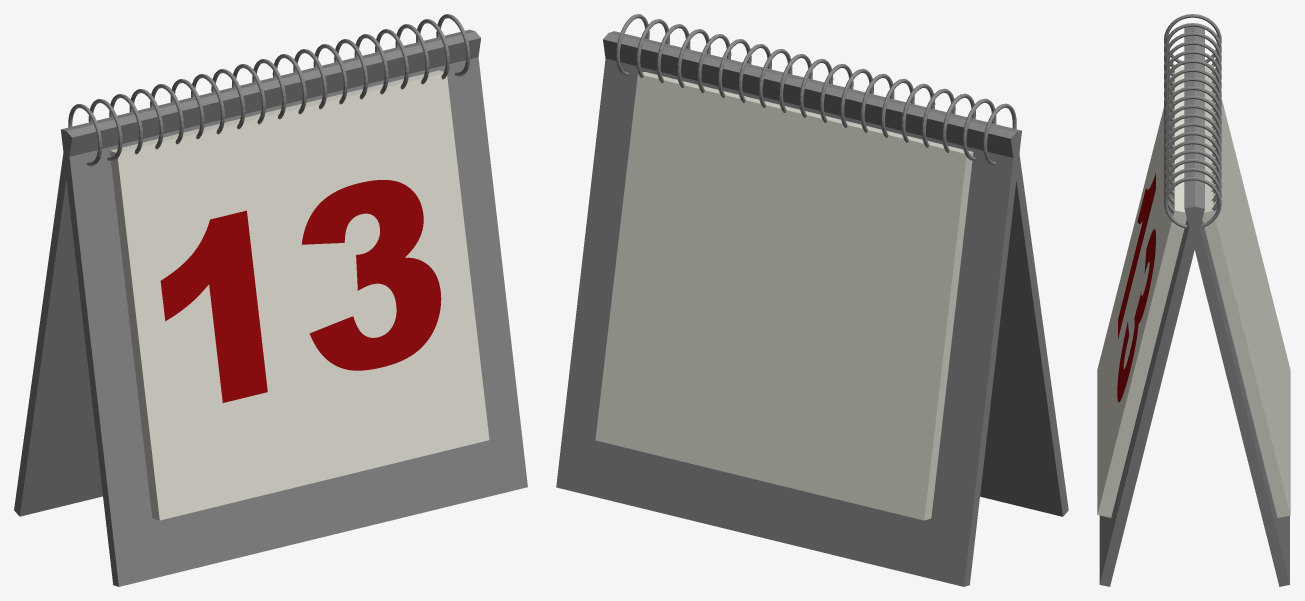
File: calendar.fbx
3 renders of one model, left to right at view 1: azimuth 30°, elevation 25°; view 2: azimuth 150°, elevation 25°; view 3: azimuth 270°, elevation 25°, orthographic. The views are drawn at different scales.
Visible parts, largest first — view 1: Calendar; view 2: Calendar; view 3: Calendar.
Part boxes in pixels (x1,y1,x2,y2): Calendar: [14, 14, 527, 586]; Calendar: [556, 14, 1068, 586]; Calendar: [1097, 14, 1290, 586].
Size of the model in its own units: 200 by 206 by 90.19.
